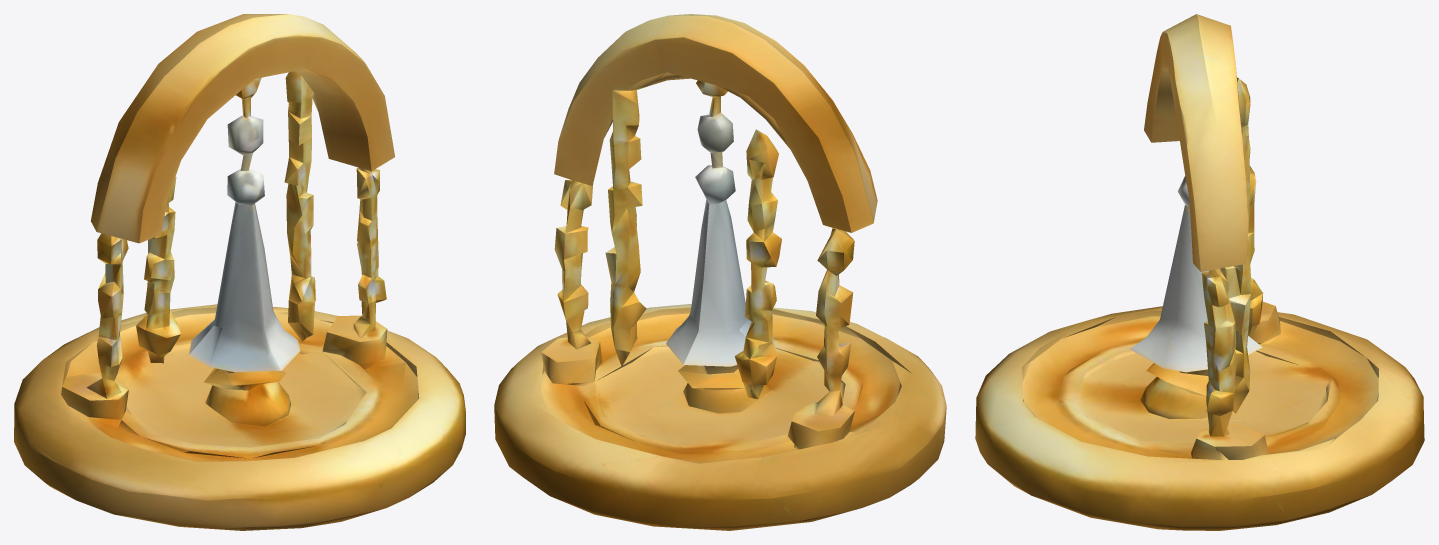
The model's file is m2SwingAnchor.glb.
3 renders of one model, left to right at view 1: azimuth 30°, elevation 25°; view 2: azimuth 150°, elevation 25°; view 3: azimuth 270°, elevation 25°, orthographic.
Parts seen in each view (by area): view 1: model; view 2: model; view 3: model.
Boxes of the visible parts, x1,y1,x2,y2 form: model: (14, 14, 465, 530); model: (494, 14, 946, 530); model: (975, 14, 1424, 530).
Bounding box in the file's own units: 1.83 × 1.9 × 1.83.
1 material, 1 textured.
